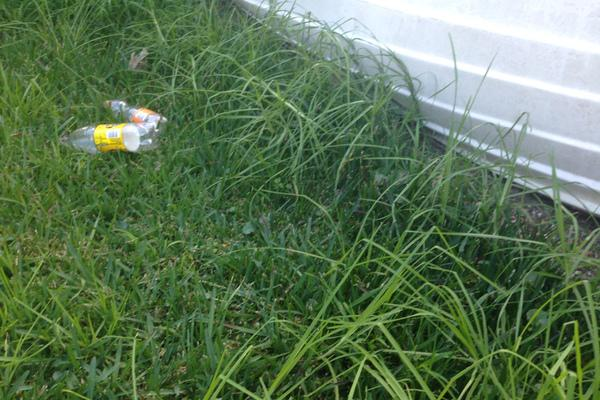Plastic Bottle: (62, 123, 158, 154), (102, 98, 167, 135)
